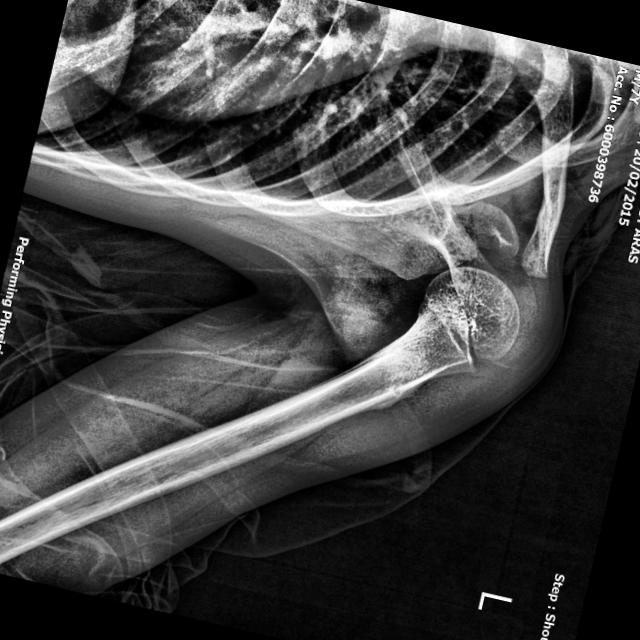Fracture: (342, 336, 422, 423)
